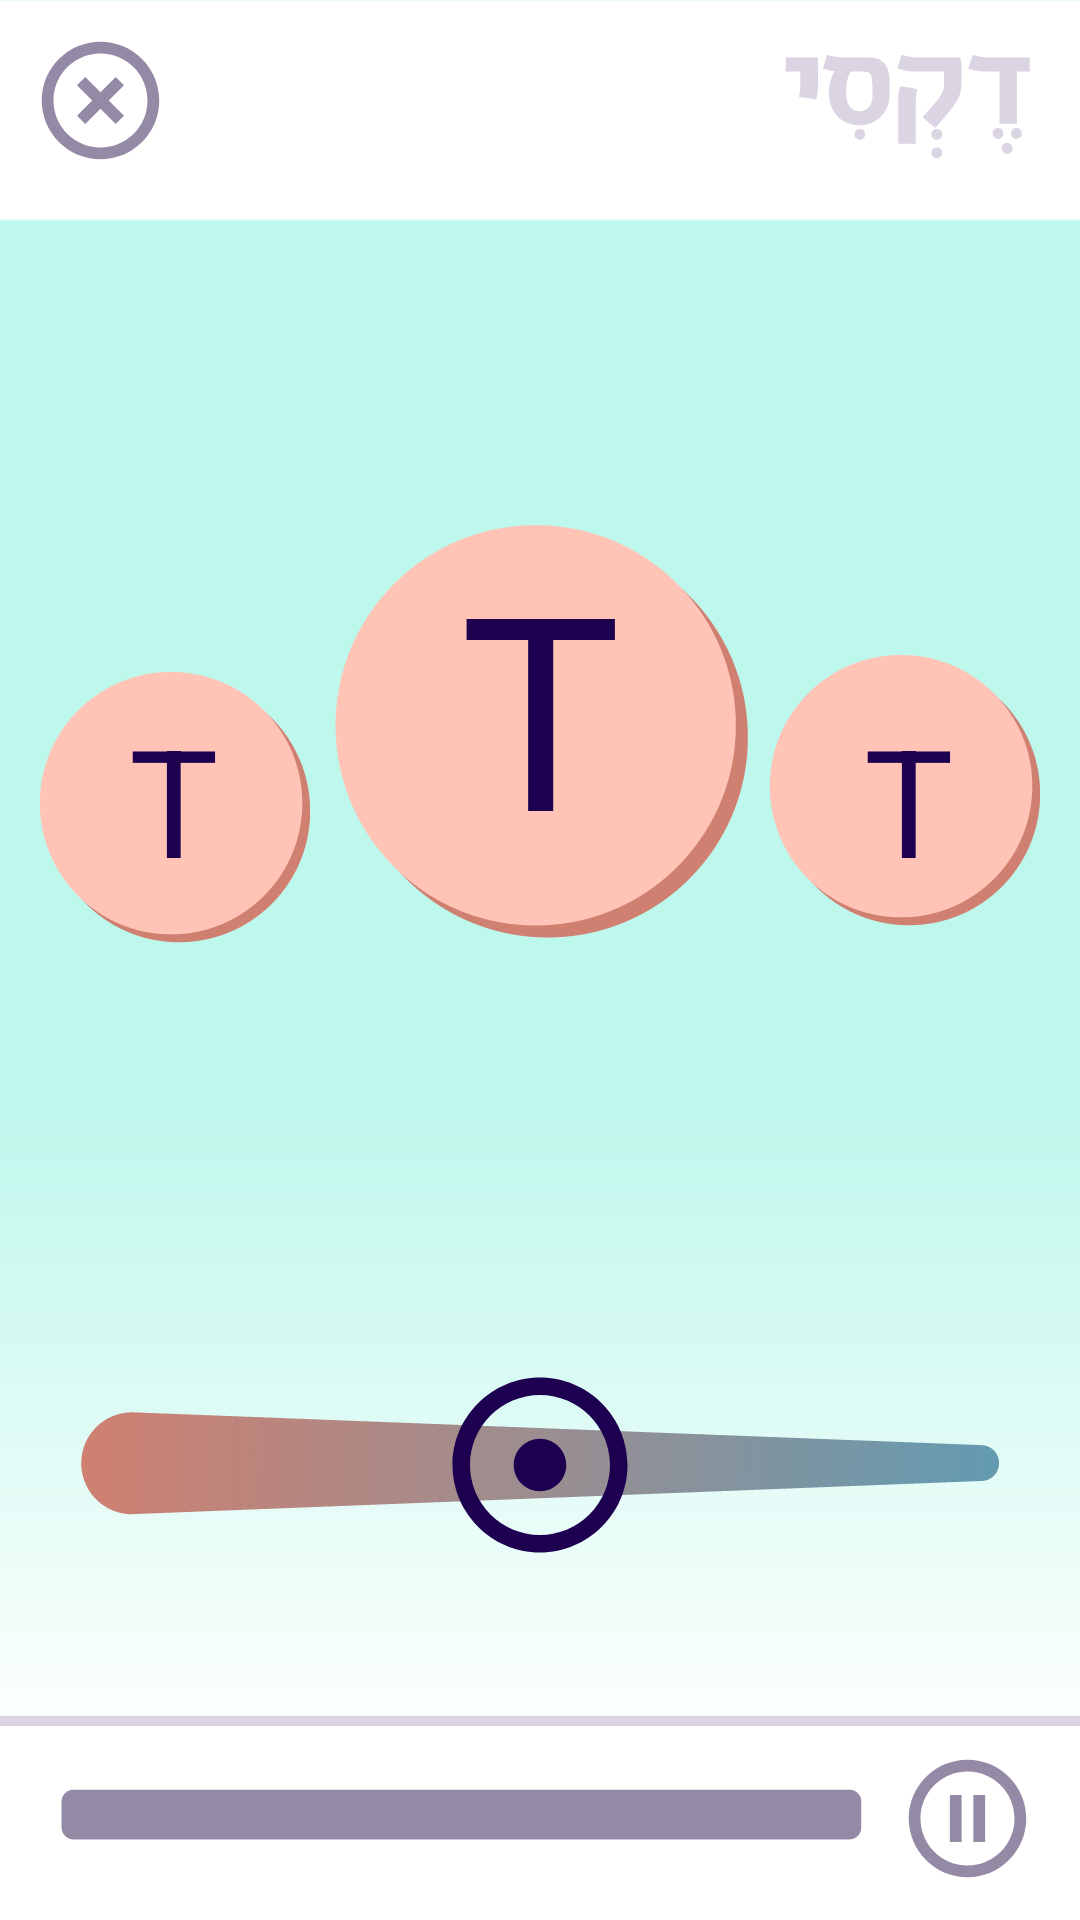

Icons on this 1080w x 1920h Android screen, each with the point to tap as (x,y):
highlight off: (100,100)
